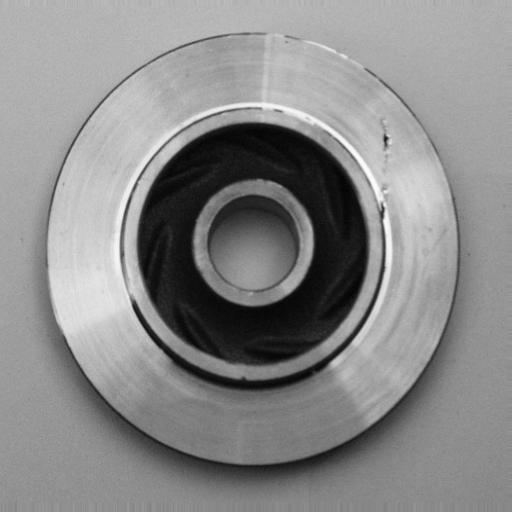crack: (362, 106, 407, 232)
scratch: (248, 90, 341, 136)
unpolished_casting: (43, 31, 462, 470)
